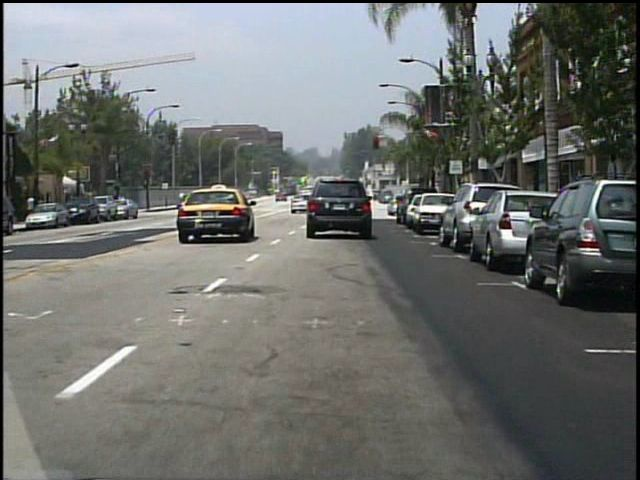person: (28, 192, 39, 223), (236, 189, 249, 212), (330, 190, 343, 213)
